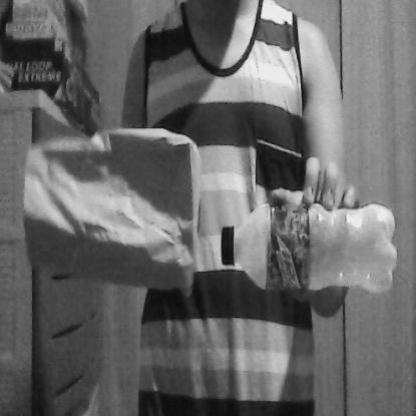Plastic Bottle: (215, 178, 405, 308)
